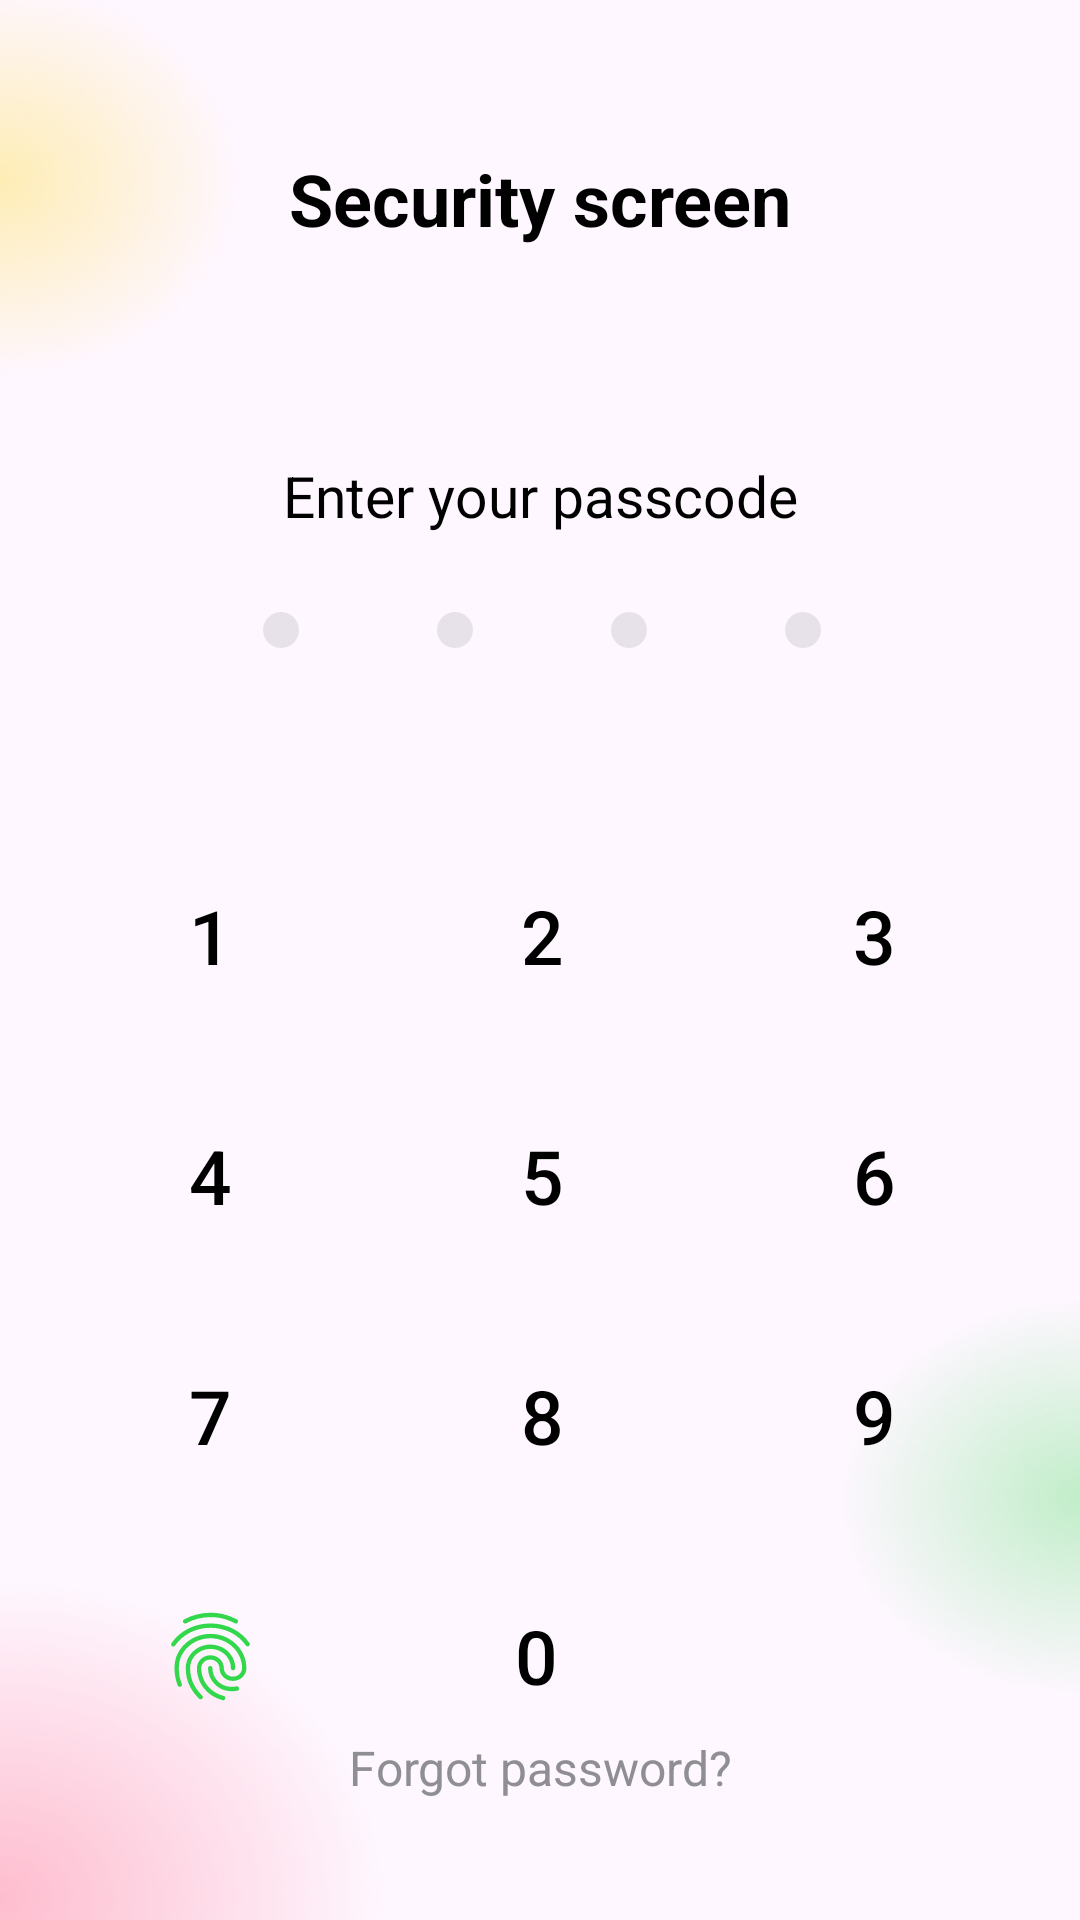

Icon click points for this 1080px×1920px phone screenshot, format point (x, y):
fingerprint: point (187, 1678)
